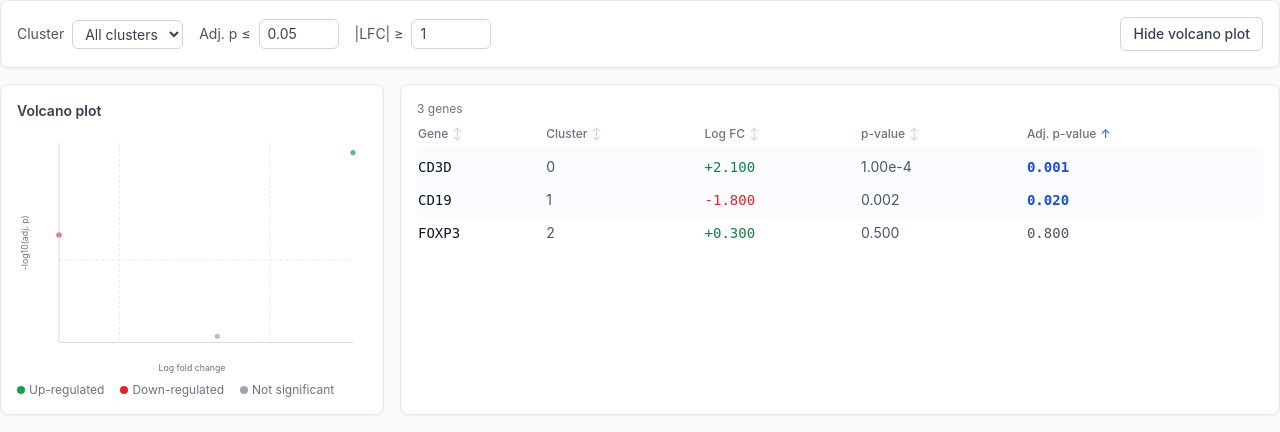
Test case: DEViewer › toggles volcano plot visibility
Expected: the icon with test id "volcano-plot" is shown, x1=17 y1=129 x2=367 y2=374
Click the button with test id "toggle-volcano": (1192, 34) x1=1120 y1=17 x2=1263 y2=51
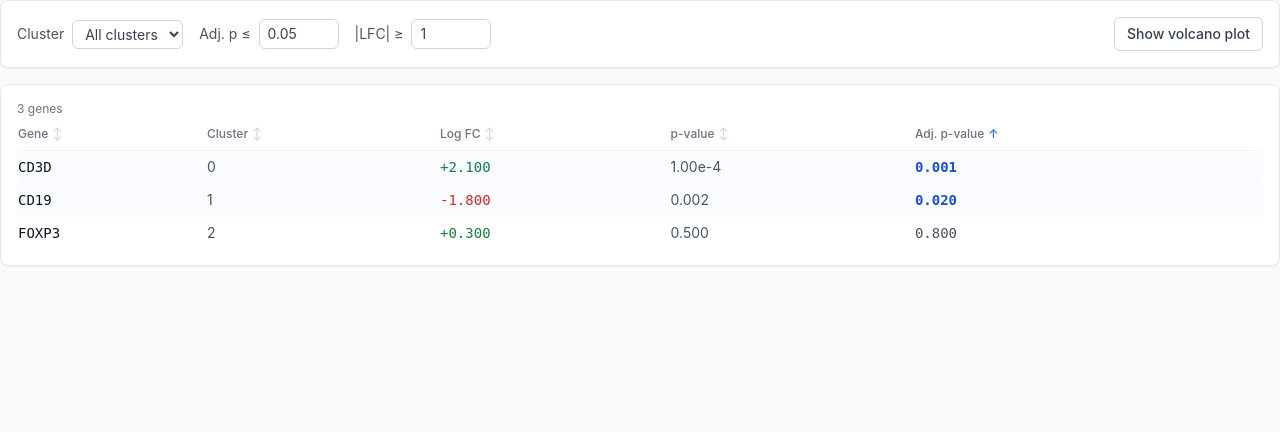
Result: the icon with test id "volcano-plot" is gone
Click the button with test id "toggle-volcano": (1188, 34) x1=1114 y1=17 x2=1263 y2=51
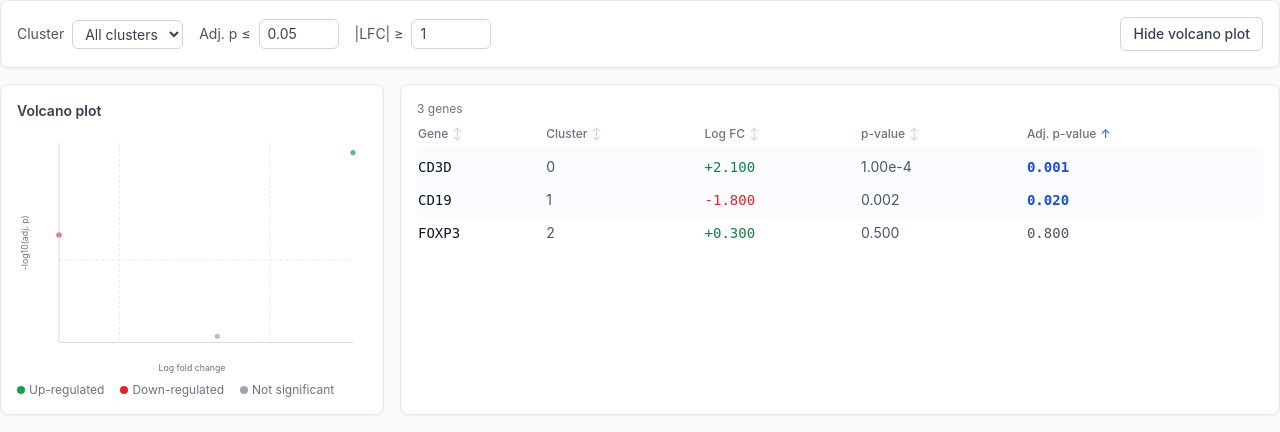
Result: the icon with test id "volcano-plot" is shown at x1=17 y1=129 x2=367 y2=374
